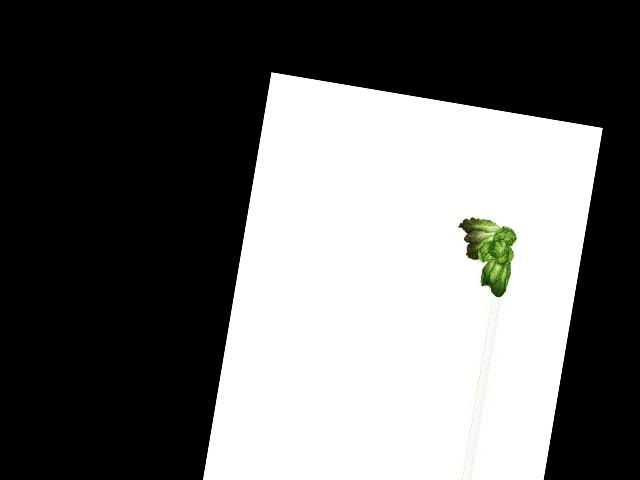lettuce: (444, 213, 523, 299)
